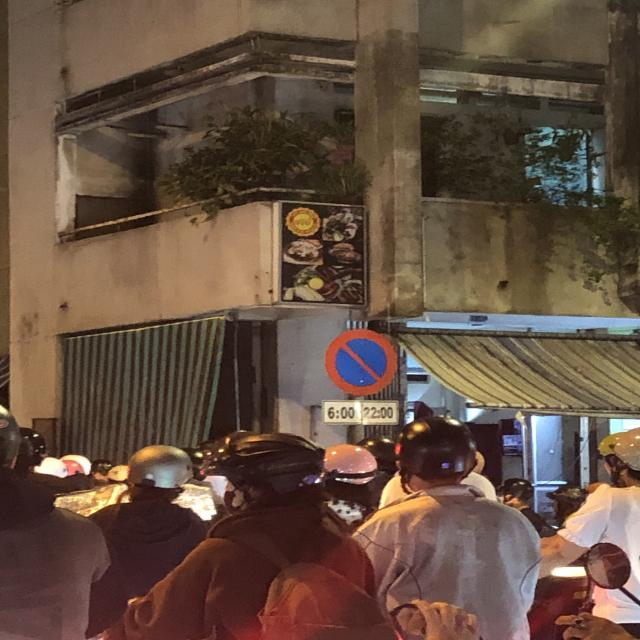Bien bao cam do xe: (316, 323, 407, 401)
